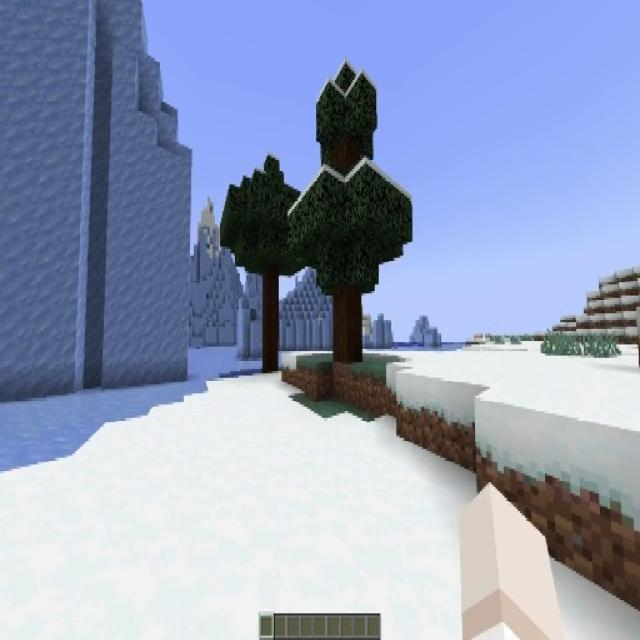spruce: (289, 64, 413, 361), (223, 156, 309, 372)
spruce_log: (332, 289, 364, 367), (264, 274, 278, 375)
